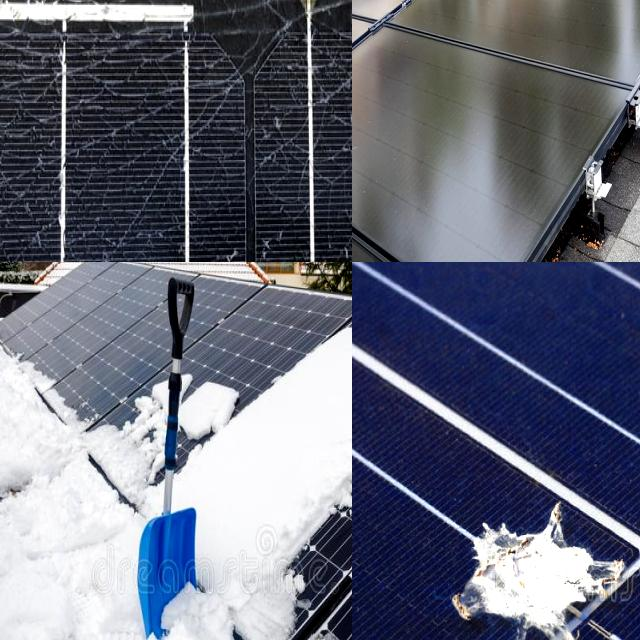bird: (446, 484, 634, 640), (290, 0, 339, 34)
panel: (180, 458, 258, 572), (263, 386, 339, 488), (18, 336, 88, 424), (92, 408, 163, 492), (235, 566, 307, 640), (176, 368, 246, 441), (285, 599, 352, 640)
